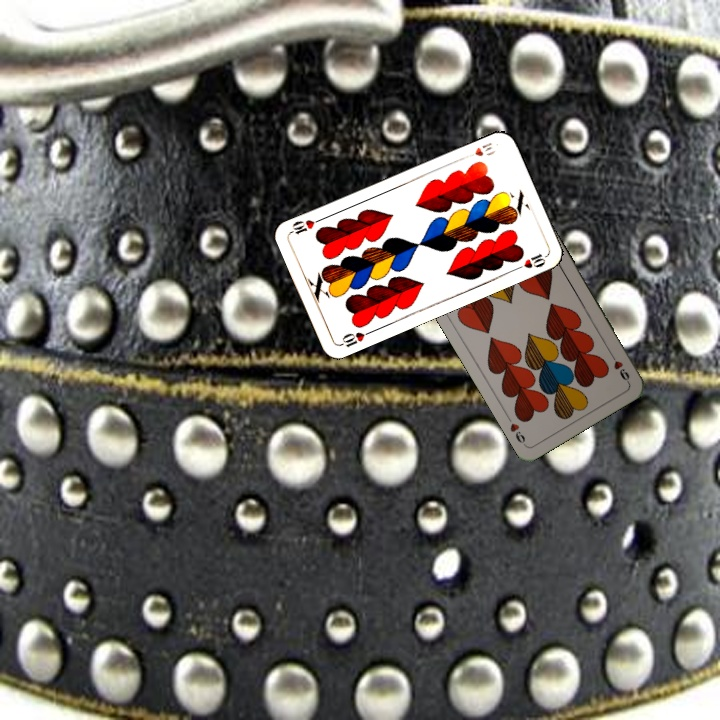H10: (336, 326, 375, 350), (461, 138, 499, 161)
H9: (606, 348, 632, 385)
